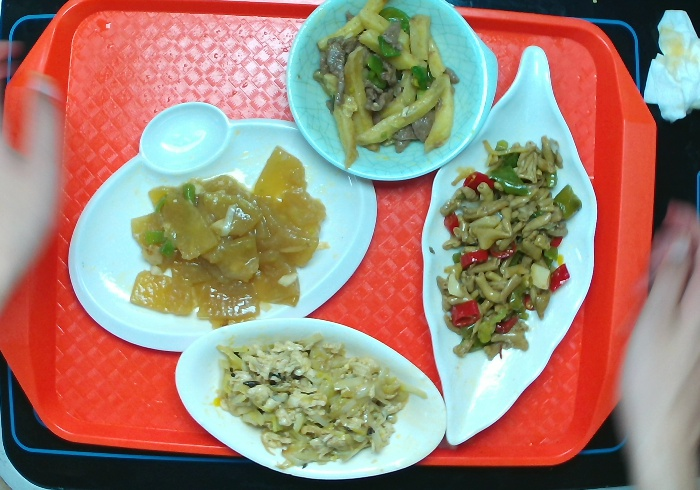RJxy-Bai_Se_Tuo_Yuan: (173, 315, 448, 481)
RJxy-Shu_Ye_Pan: (423, 41, 599, 453)
RJxy-Xiao_Jiao_Yuan_Wan: (280, 1, 500, 186)
RJxy-Zhan_Liao_Pan: (66, 99, 379, 360)
